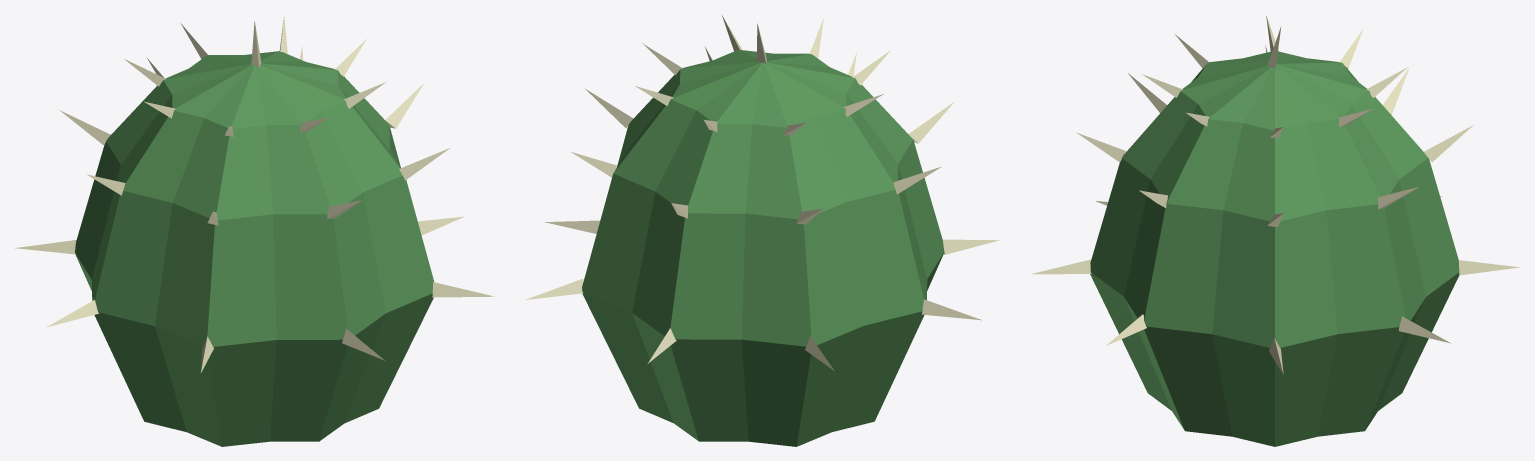
File: Small_Cactus_001.fbx
The picture shows the model from 3 angles, left to right: view 1: azimuth 30°, elevation 25°; view 2: azimuth 150°, elevation 25°; view 3: azimuth 270°, elevation 25°; orthographic projection.
Parts seen in each view (by area): view 1: Small_Cactus_001; view 2: Small_Cactus_001; view 3: Small_Cactus_001.
Part boxes in pixels (<box>): Small_Cactus_001: <box>14,15,494,446</box>; Small_Cactus_001: <box>525,15,999,446</box>; Small_Cactus_001: <box>1031,15,1519,446</box>.
Size of the model in its own units: 1.69 by 1.4 by 1.69.
